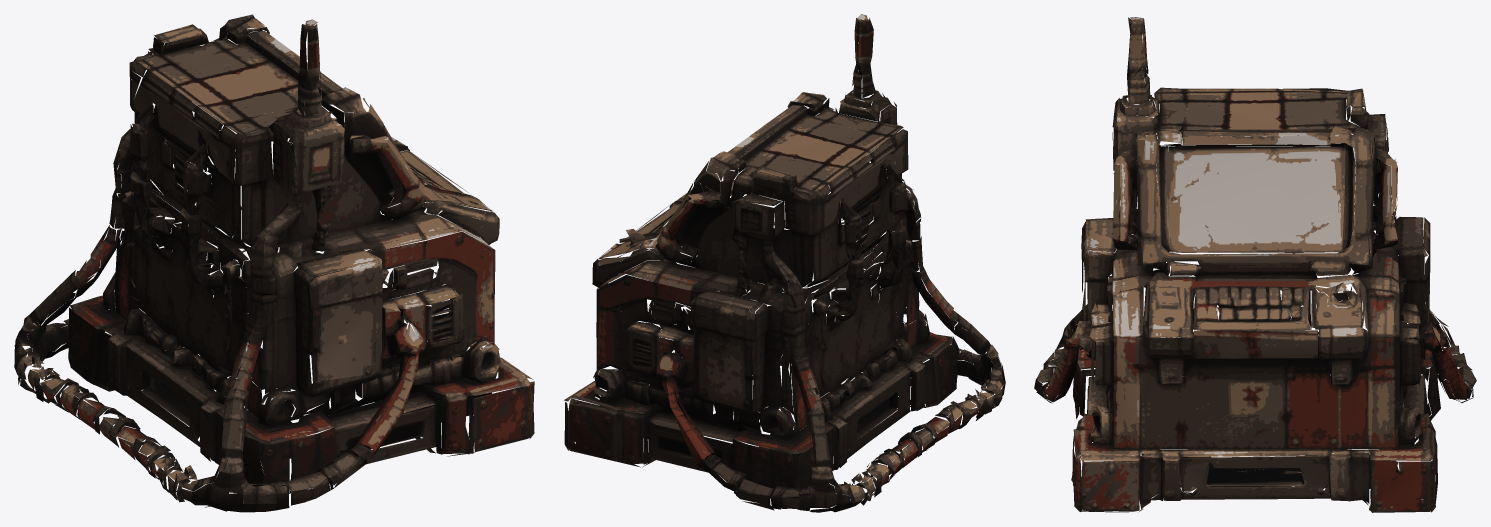
File: terminal.glb
3 renders of one model, left to right at view 1: azimuth 30°, elevation 25°; view 2: azimuth 150°, elevation 25°; view 3: azimuth 270°, elevation 25°, orthographic. The views are drawn at different scales.
Parts seen in each view (by area): view 1: terminal; view 2: terminal; view 3: terminal.
Boxes of the visible parts, x1,y1,x2,y2 form: terminal: (14,14,534,512); terminal: (564,14,1005,512); terminal: (1034,17,1476,512).
Size of the model in its own units: 0.5253 by 0.6358 by 0.6205.
1 material, 1 textured.
